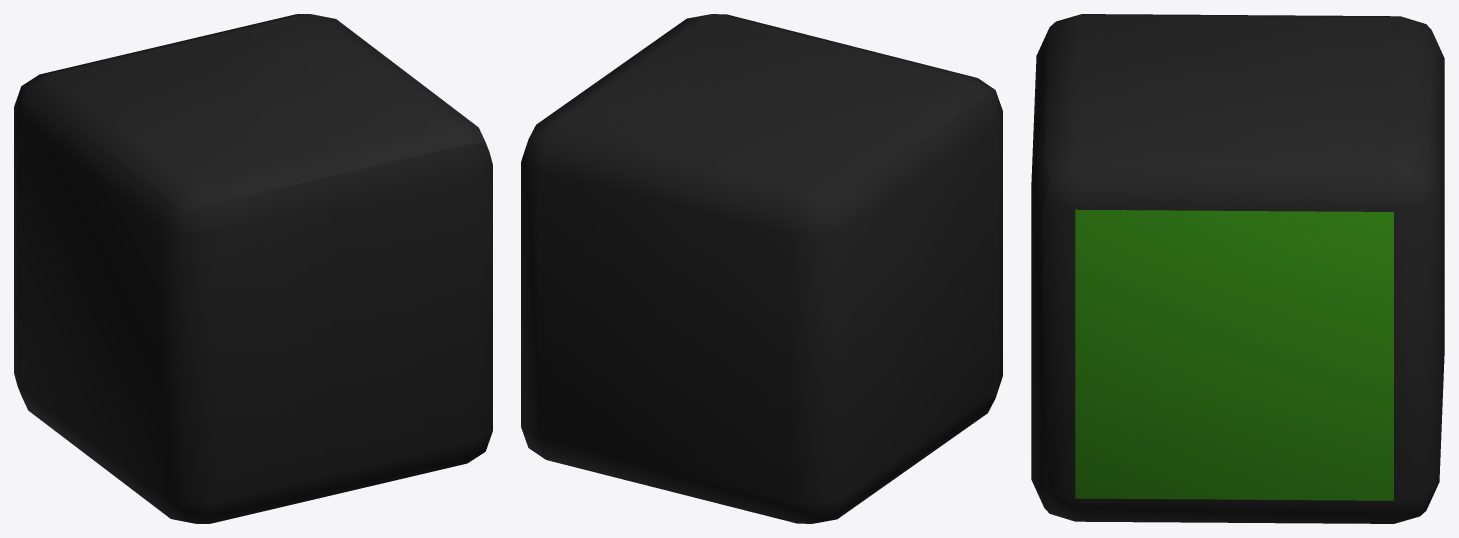
Rendered from Piece1 1.fbx.
3 renders of one model, left to right at view 1: azimuth 30°, elevation 25°; view 2: azimuth 150°, elevation 25°; view 3: azimuth 270°, elevation 25°, orthographic. The views are drawn at different scales.
Parts seen in each view (by area): view 1: RPiece2; view 2: RPiece2; view 3: RPiece2.
Part boxes in pixels (box(x1,y1,x2,y2)): RPiece2: box(14, 14, 492, 523); RPiece2: box(521, 14, 1002, 523); RPiece2: box(1031, 14, 1444, 523).
Bounding box in the file's own units: 43.92 × 43.37 × 43.92.
